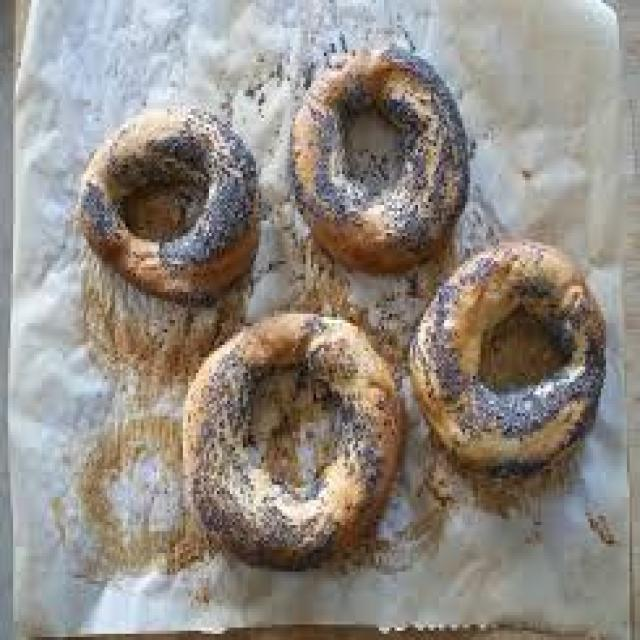Bagel: (184, 314, 402, 567), (410, 242, 605, 469), (295, 51, 468, 271), (82, 111, 255, 301)
